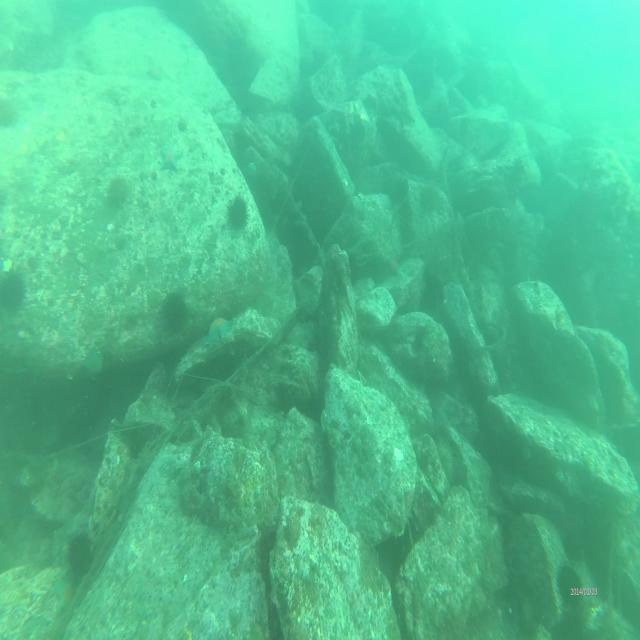echinus: (158, 287, 190, 339), (554, 558, 583, 610), (102, 170, 134, 216), (225, 189, 254, 237), (0, 266, 28, 315), (418, 181, 438, 220), (0, 91, 19, 132)
starfish: (206, 311, 236, 347)
